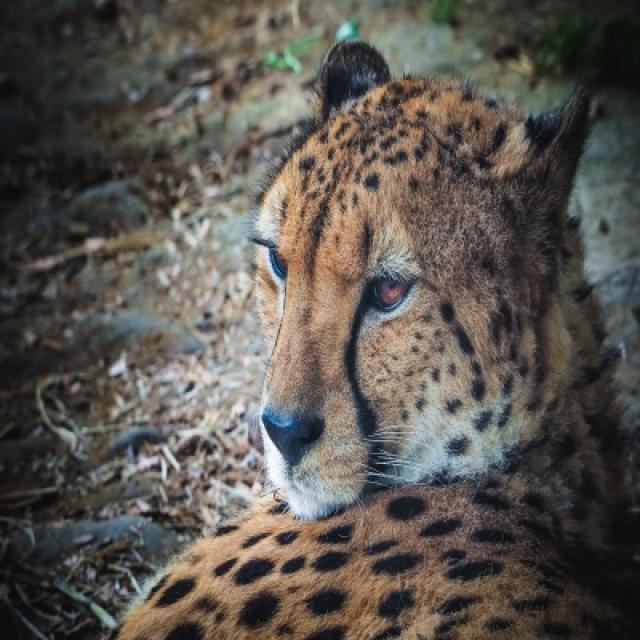Cheetah: (118, 42, 638, 638)
